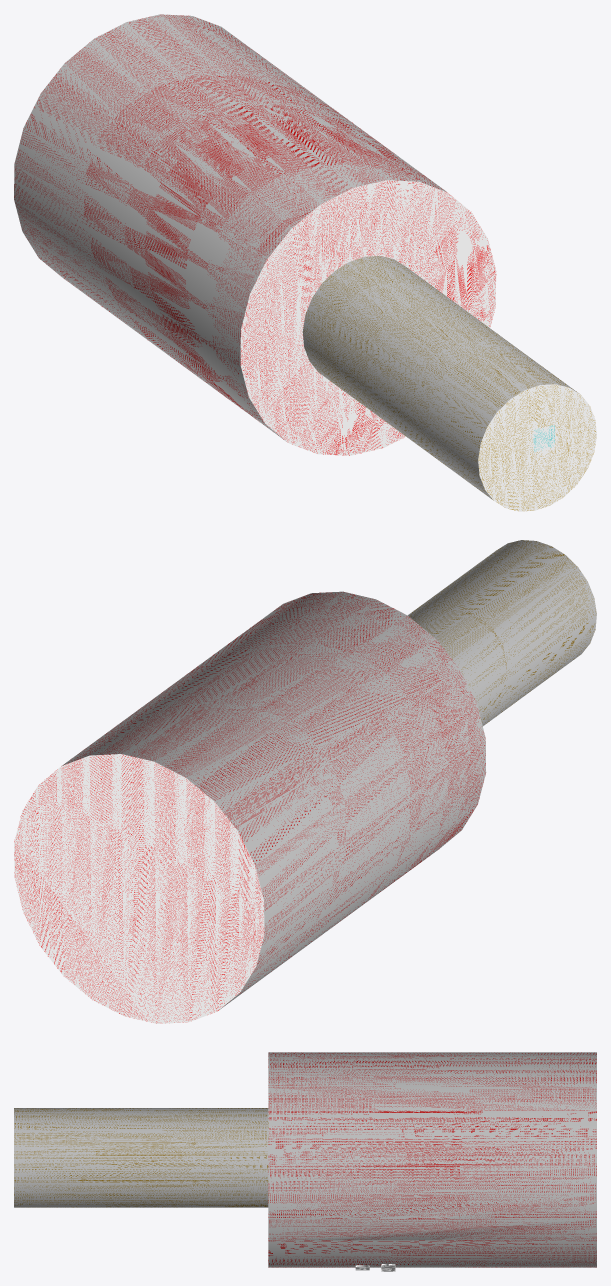
Rendered from model_align.obj.
3 views of the same model, one above another, from view 1: azimuth 30°, elevation 25°; view 2: azimuth 150°, elevation 25°; view 3: azimuth 270°, elevation 25° (orthographic). The views are drawn at different scales.
Visible parts, largest first — view 1: mesh26_mesh26-geometry; view 2: mesh26_mesh26-geometry; view 3: mesh26_mesh26-geometry.
Boxes of the visible parts, <box> form: mesh26_mesh26-geometry: <box>14,14,596,511</box>; mesh26_mesh26-geometry: <box>14,540,596,1023</box>; mesh26_mesh26-geometry: <box>14,1052,596,1267</box>.
Size of the model in its own units: 0.0773 by 0.0809 by 0.2104.
